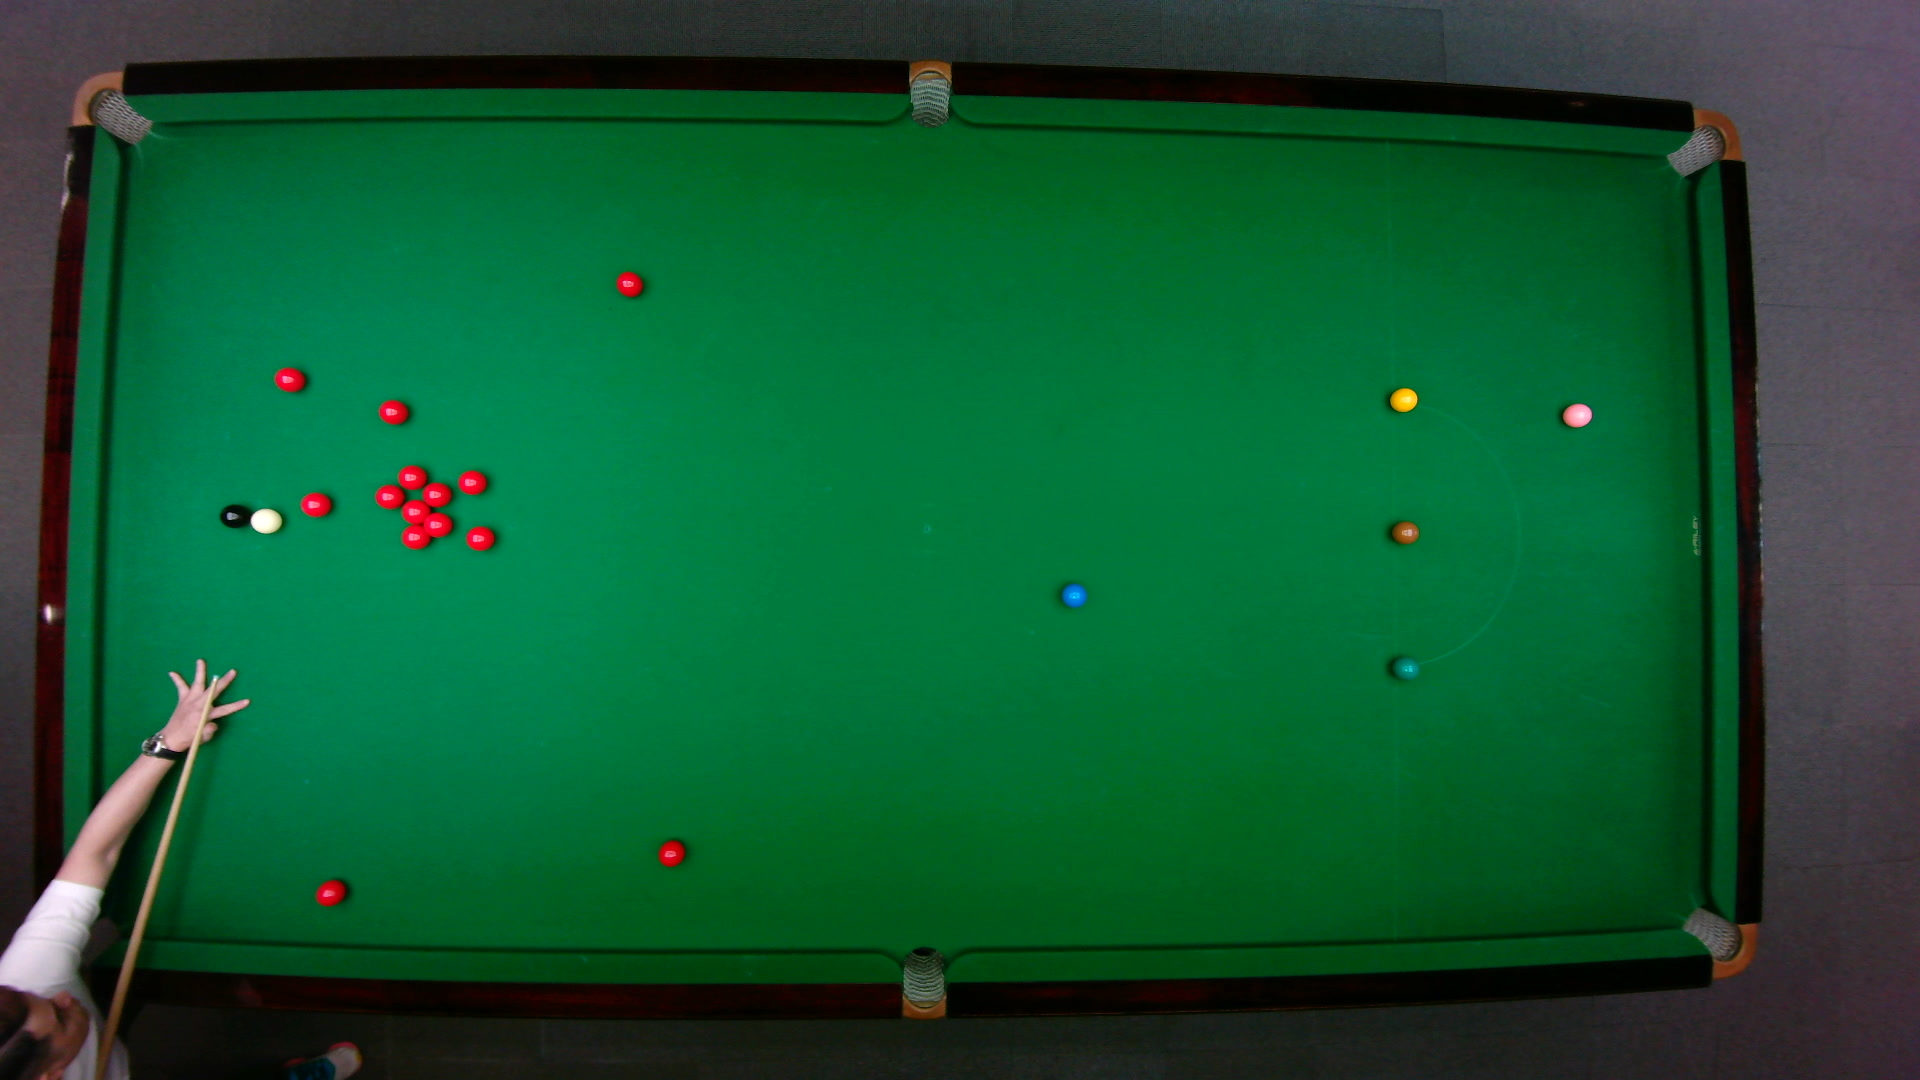bag: (69, 69, 153, 145), (1679, 905, 1756, 978), (1663, 108, 1741, 177), (901, 944, 944, 1021), (909, 57, 949, 128)
black: (218, 502, 248, 527)
blue: (1059, 582, 1087, 608)
brown: (1389, 520, 1419, 545)
cue: (95, 655, 237, 1073)
green: (1390, 654, 1419, 680)
pink: (1560, 401, 1593, 427)
red: (314, 877, 347, 907), (396, 463, 429, 491), (272, 365, 306, 392), (298, 491, 332, 517), (655, 837, 686, 866), (464, 524, 496, 551), (419, 480, 452, 506), (422, 510, 452, 538), (372, 483, 405, 508), (615, 269, 644, 297), (377, 398, 407, 425), (400, 524, 430, 550), (456, 468, 487, 495), (400, 498, 429, 524)
white: (247, 506, 284, 534)
yellow: (1389, 385, 1419, 411)
zone: (1389, 401, 1520, 665)
